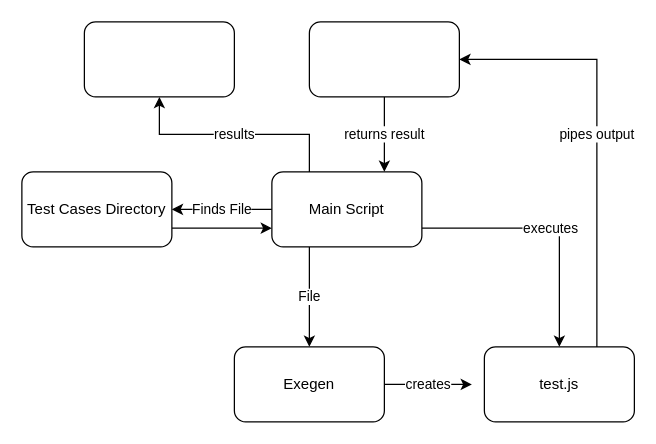
This 656x444 diagram has some shape labels left out. The shapes that lost their labels are listed below. From the top down, each one's box as (x1, y1, x2, y2) in pixels, then its label:
(83, 21, 234, 97): reportgen
(308, 21, 459, 97): oracle
